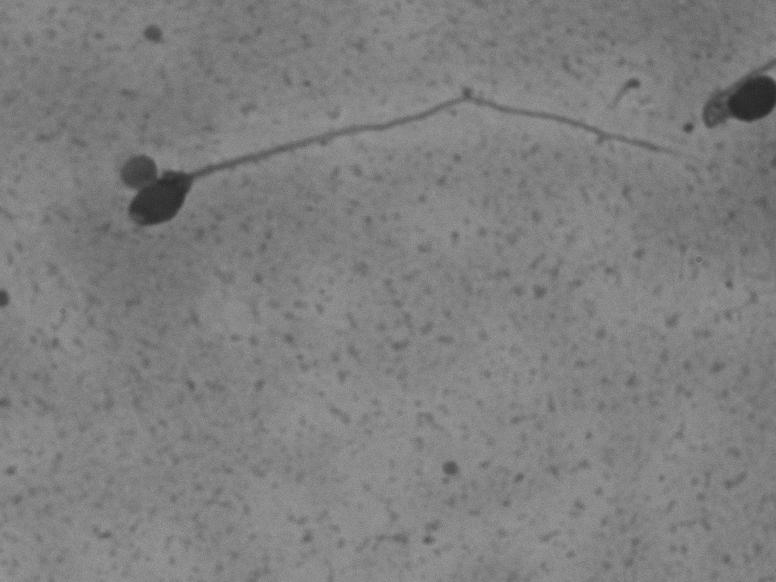Abnormal: (106, 72, 661, 287)
